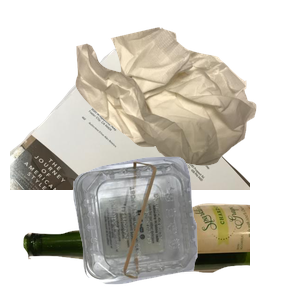glass: (21, 201, 261, 300)
paper: (10, 46, 250, 226)
plastic: (71, 154, 300, 300)
trash: (73, 25, 300, 183)
